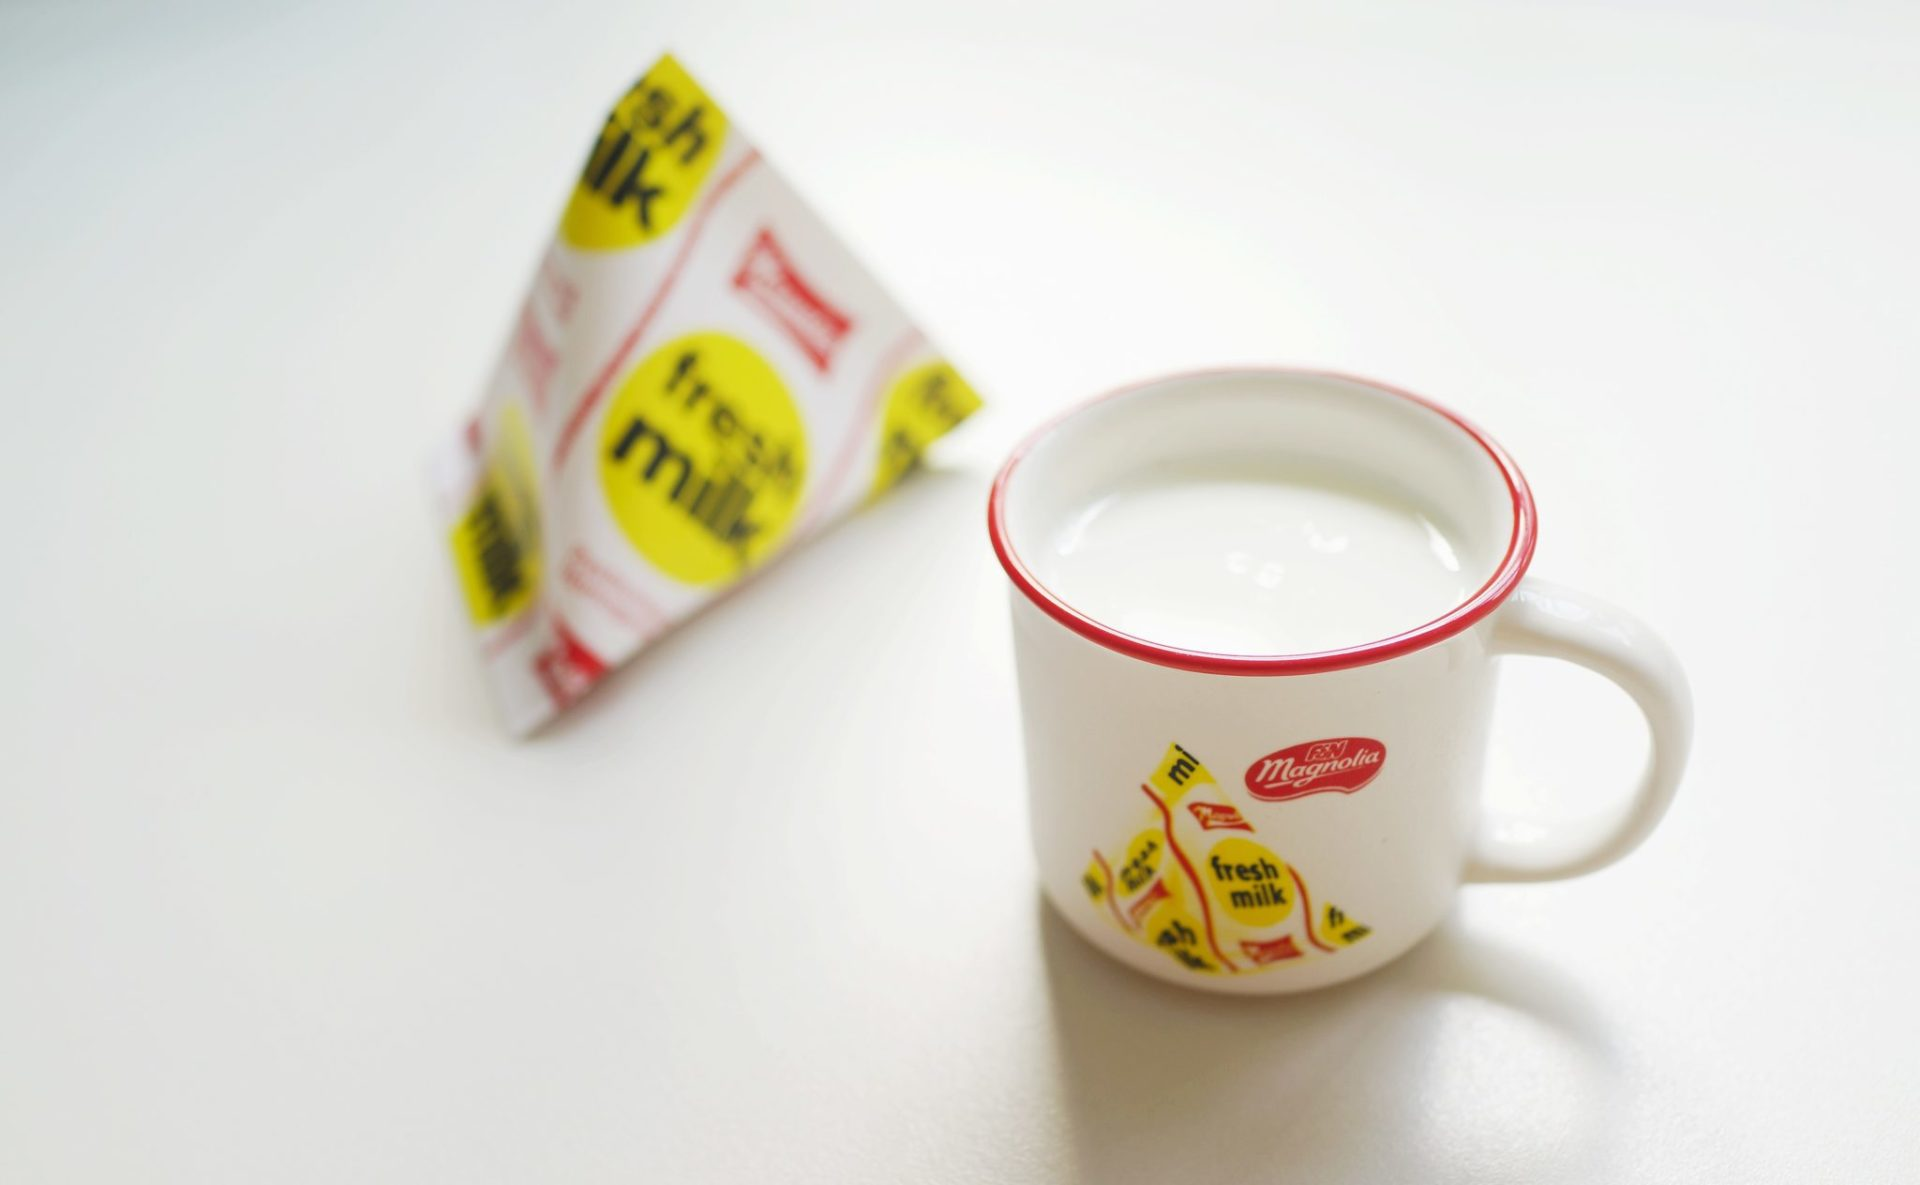glass of milk: (1055, 377, 1650, 982)
